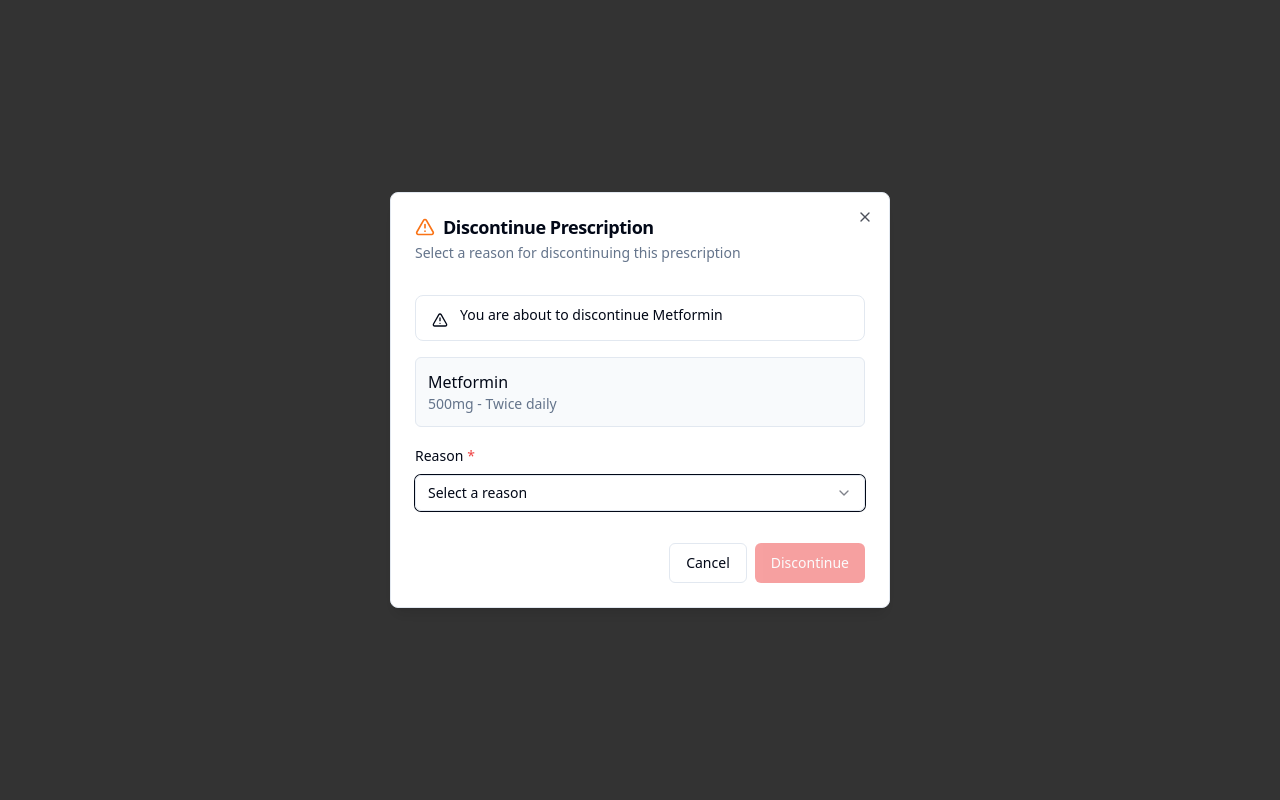
Test case: DiscontinueDialog › Reason Selection › shows all discontinuation reasons in dropdown
This screenshot has width=1280, height=800.
Click the dropdown. click: (478, 492)
box: [415,475,865,511]
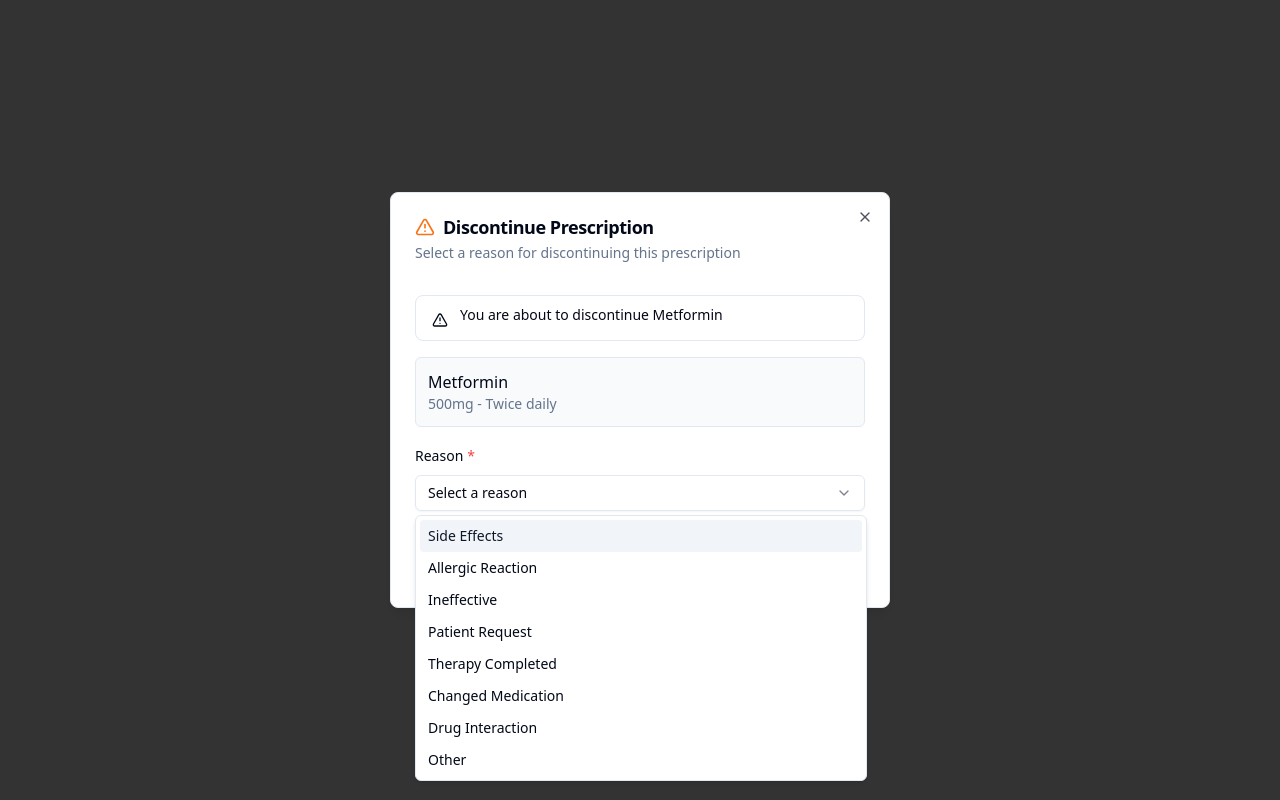
Result: the text "Side Effects" is shown at [428,526,503,546]
Result: the text "Allergic Reaction" is shown at [428,558,537,578]
Result: the text "Ineffective" is shown at [428,590,497,610]
